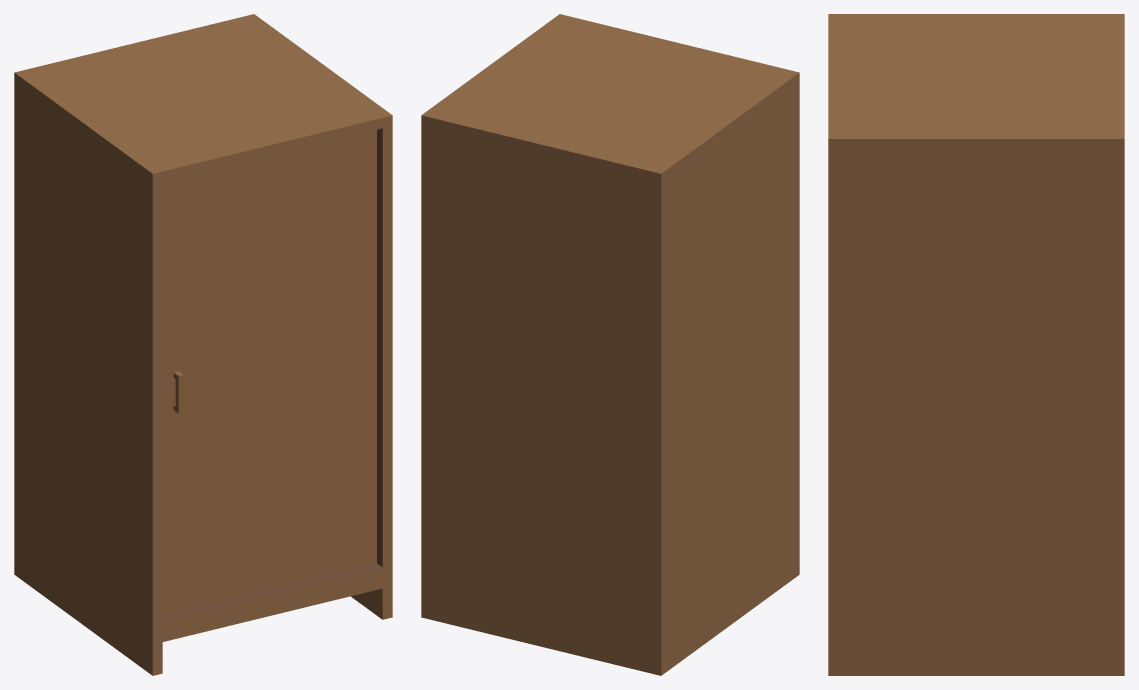
Rendered from cupboard.obj.
The picture shows the model from 3 angles, left to right: view 1: azimuth 30°, elevation 25°; view 2: azimuth 150°, elevation 25°; view 3: azimuth 270°, elevation 25°; orthographic projection. The views are drawn at different scales.
Parts seen in each view (by area): view 1: cupboard_mesh_Cube; view 2: cupboard_mesh_Cube; view 3: cupboard_mesh_Cube.
Part boxes in pixels (left/top/right/bottom): cupboard_mesh_Cube: left=14, top=14, right=392, bottom=675; cupboard_mesh_Cube: left=421, top=14, right=799, bottom=675; cupboard_mesh_Cube: left=828, top=14, right=1124, bottom=675.
Size of the model in its own units: 0.9 by 1.8 by 0.9.
